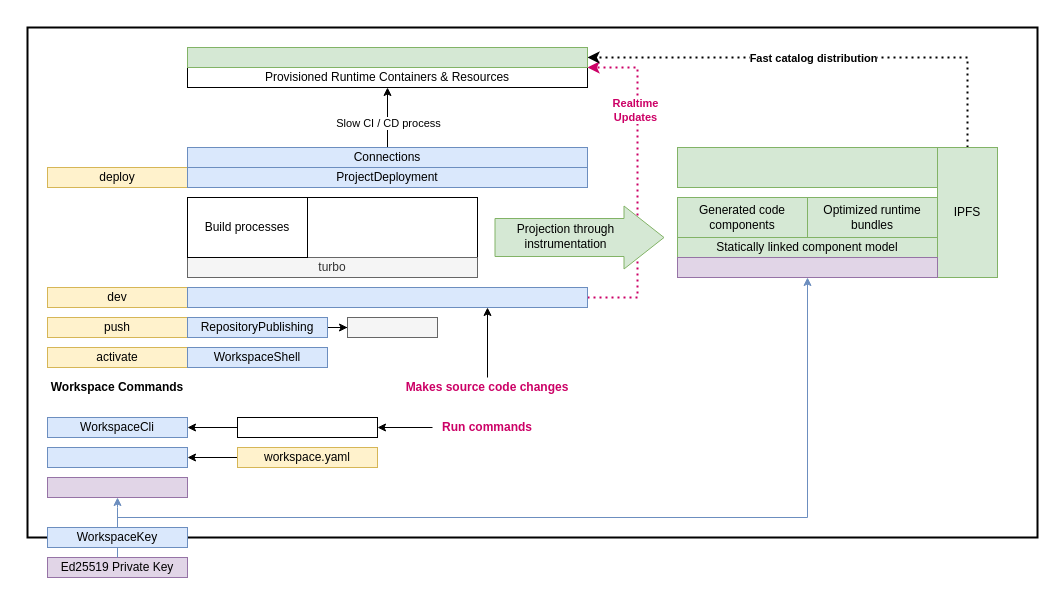
Some shapes in this 1064 by 604 pixel diagram are drawn without their labels. The centre of each missing label's shape, as x and y in pixels:
bin: workspace: the point at 307,427
CredentialsStore: the point at 117,487
git protocol: the point at 392,327
Imperative code execution: the point at 392,227
Private data spaces model: the point at 807,267
ProjectDevelopment: the point at 387,297
Projected Resource and Runtime Namespace: the point at 807,167
Published Runtime Catalogs: the point at 387,57
WorkspaceConfig: the point at 117,457
